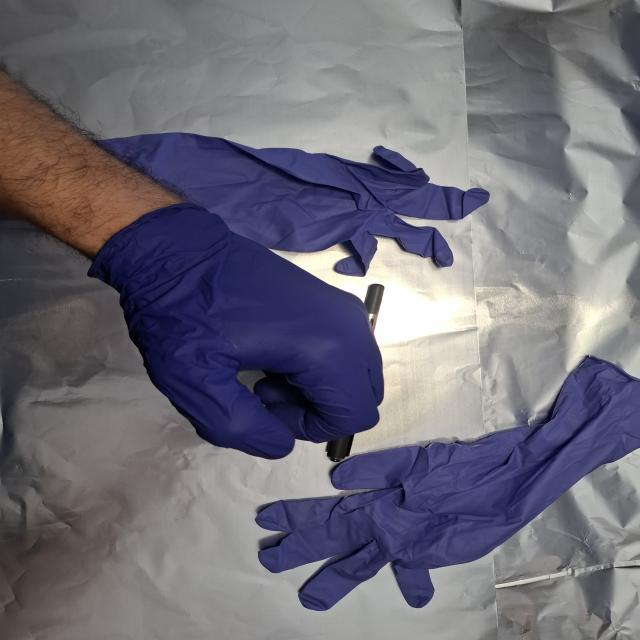glove_on: (106, 199, 388, 461)
